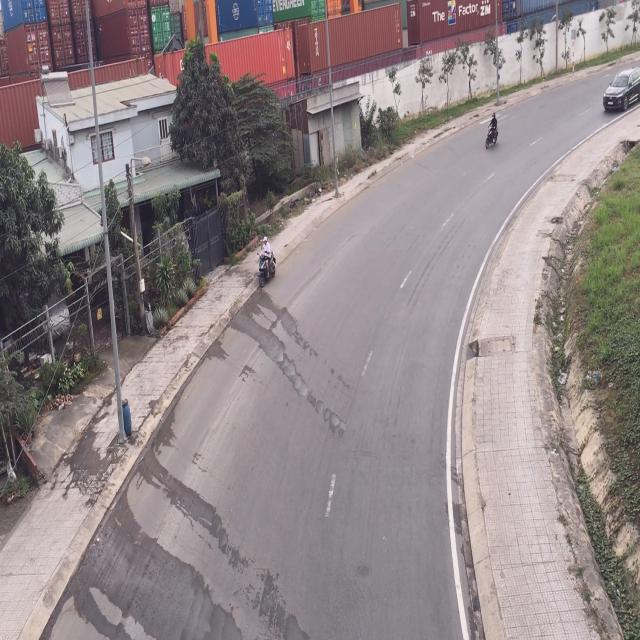car: (603, 70, 640, 115)
motorbike: (259, 238, 279, 288), (484, 109, 500, 152)
